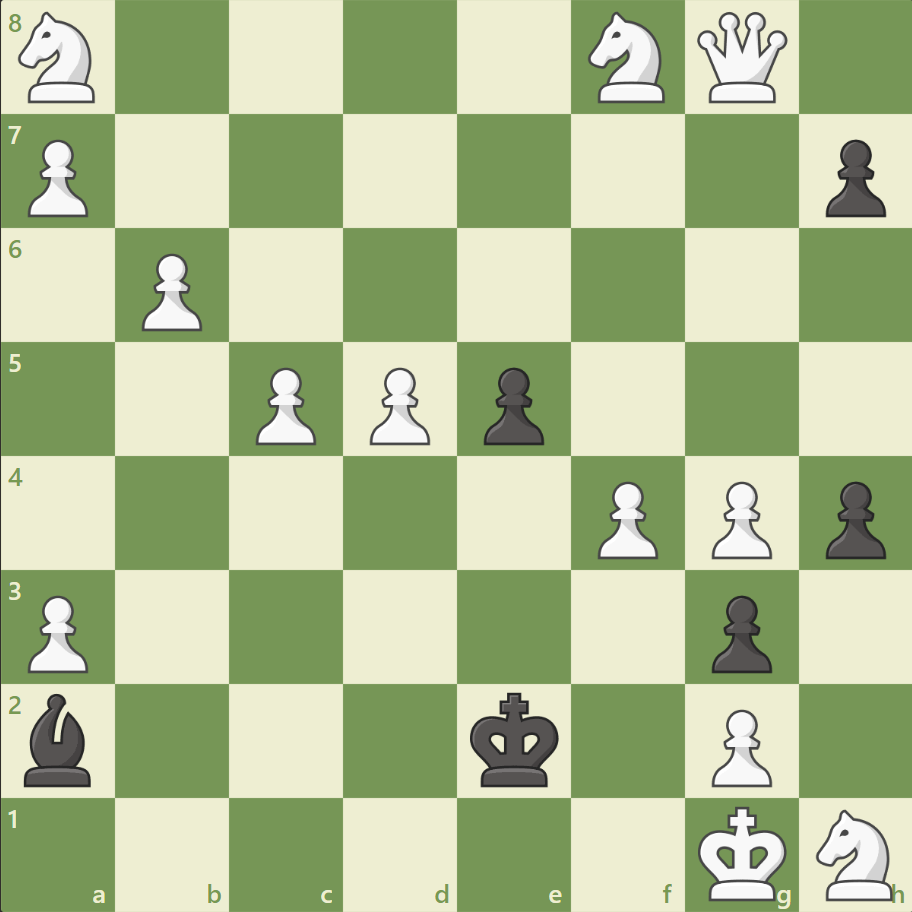K: (692, 798, 792, 906)
N: (11, 7, 108, 110), (579, 7, 676, 110), (806, 802, 903, 904)
P: (20, 132, 95, 223), (133, 246, 208, 337), (247, 359, 322, 450), (701, 473, 776, 564), (20, 586, 95, 677), (701, 700, 776, 791), (361, 359, 435, 450), (588, 473, 662, 564)
Q: (691, 9, 790, 108)
b: (17, 687, 101, 790)
k: (465, 685, 565, 793)
p: (474, 359, 549, 450), (701, 586, 776, 677), (815, 132, 889, 223), (815, 473, 889, 564)
